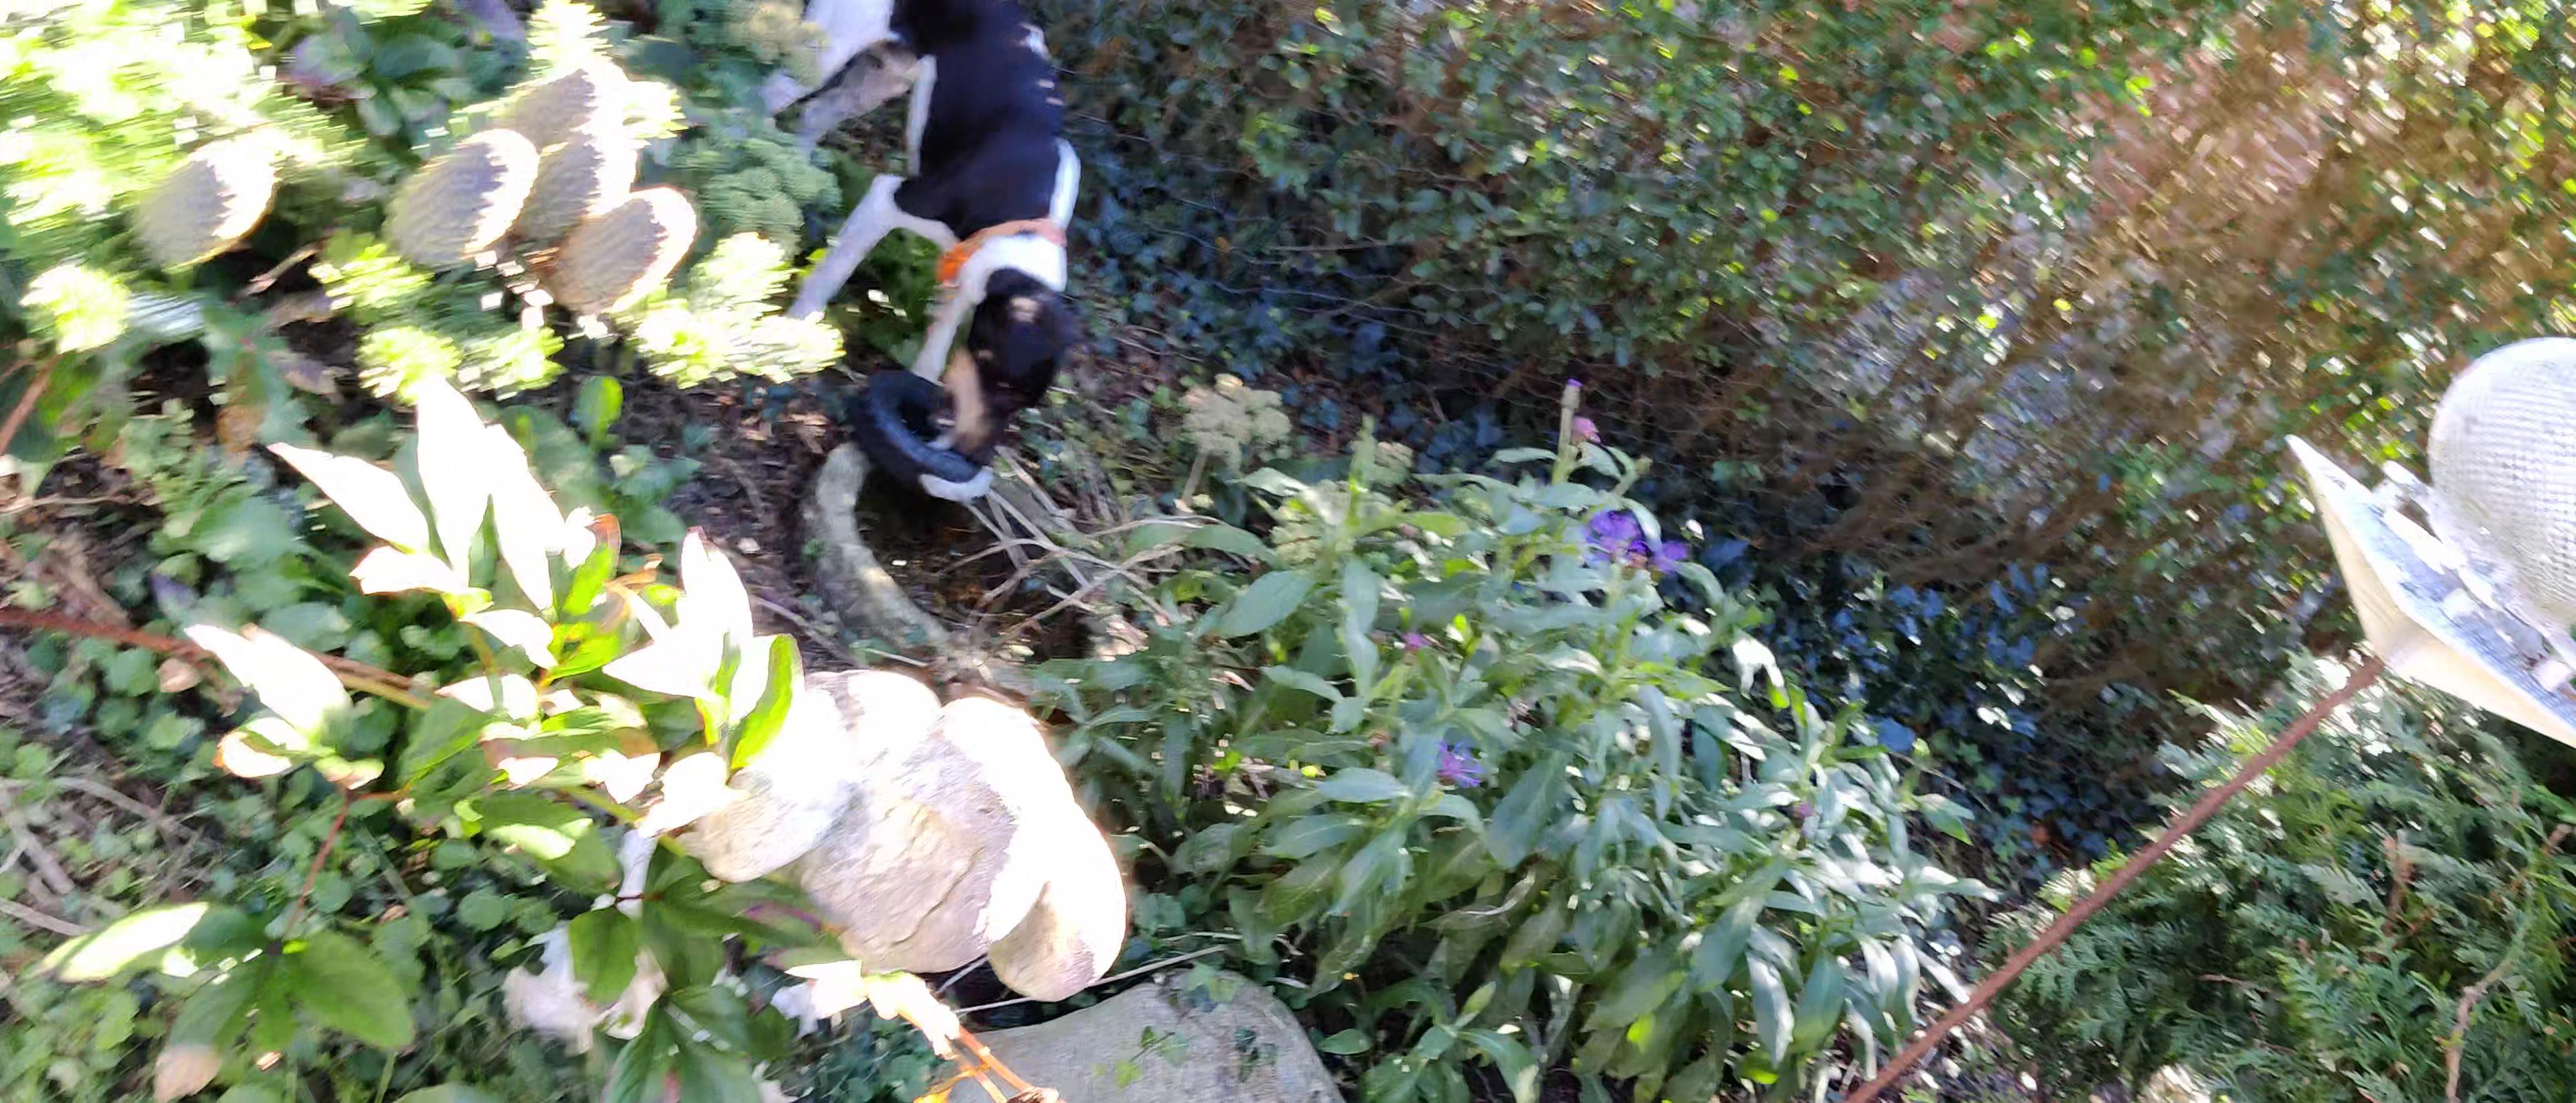Dog: (764, 0, 1101, 465)
